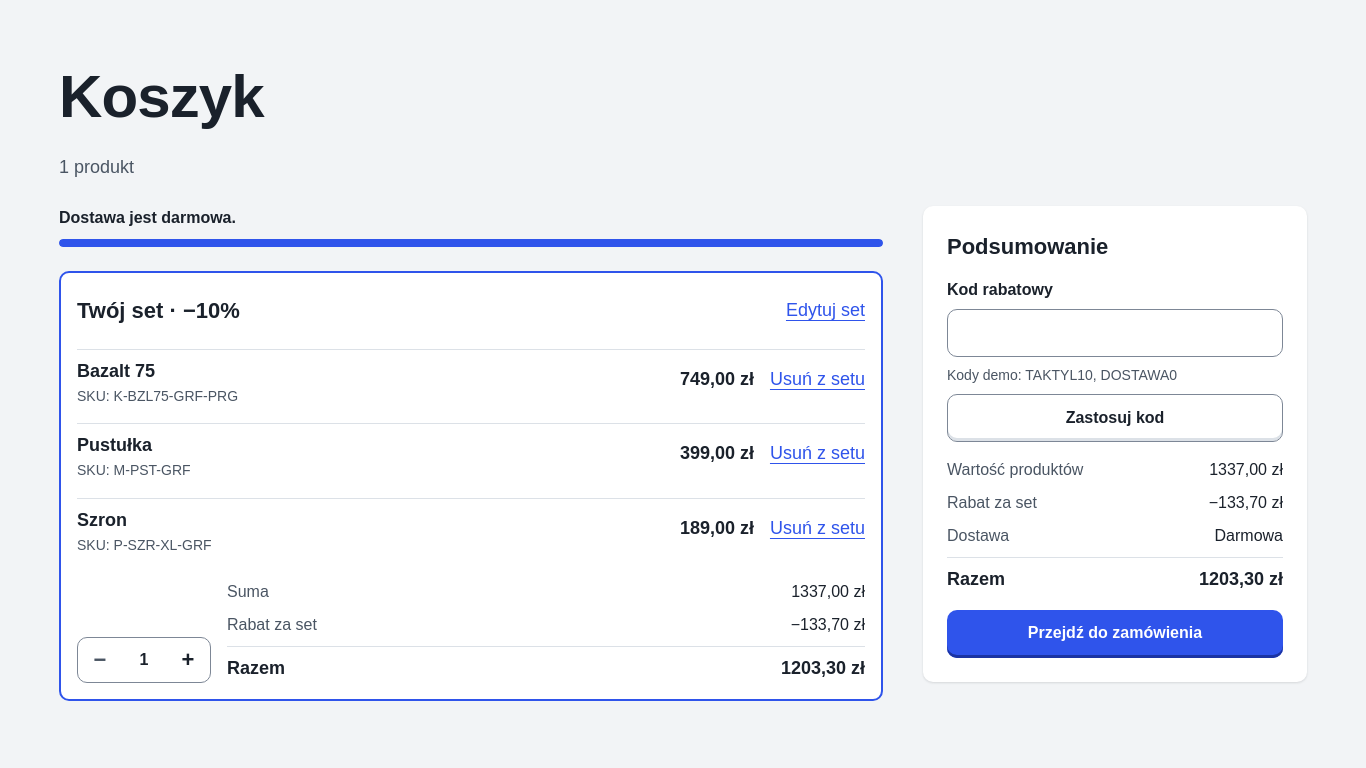
Test: lista, licznik i podsumowanie › zmiana ilosci grupy wola nowa wycene i aktualizuje sumy; ceny nie sa w koszyku
The width and height of the screenshot is (1366, 768).
Expected: the element with test id "koszyk-razem" reads "1203,30 zł", [1199, 569, 1283, 589]
Click the button named "Zwiększ ilość" at coordinates (188, 660), box [166, 638, 210, 682]
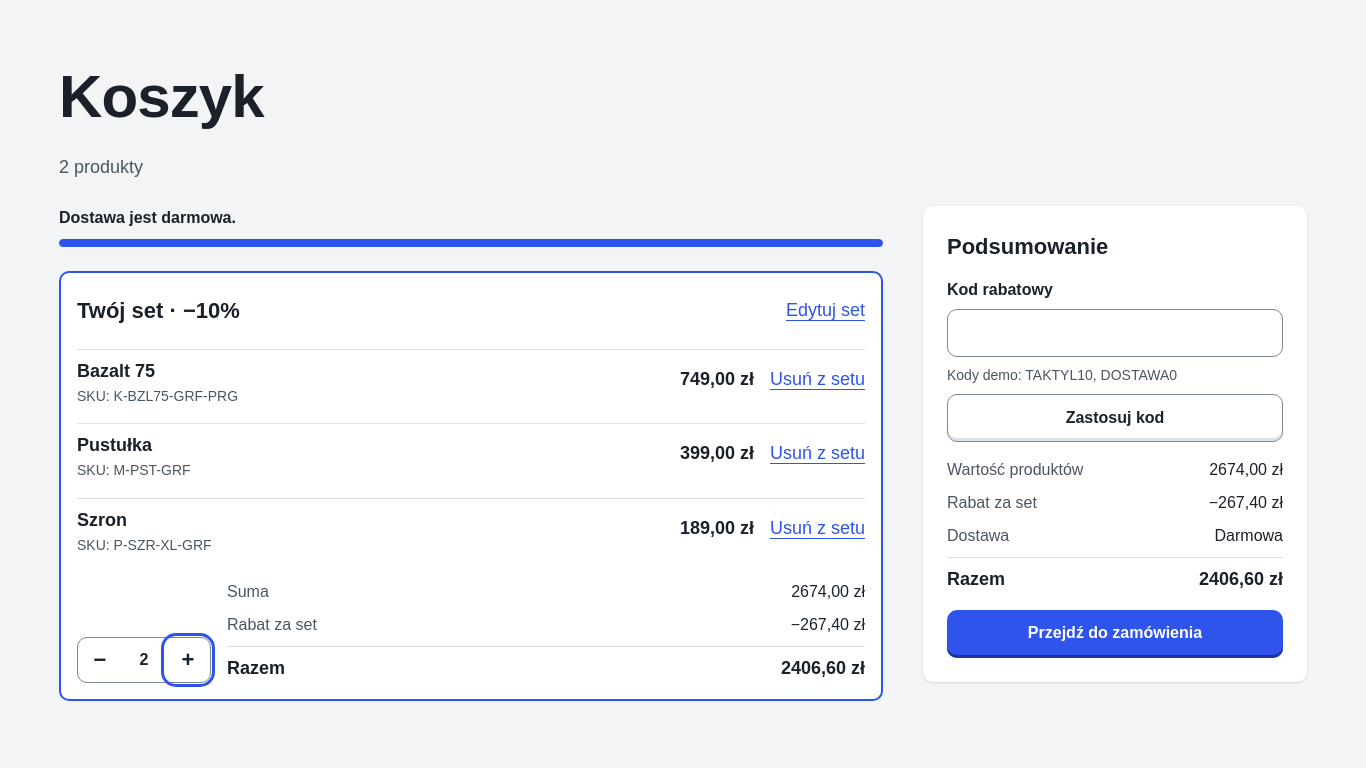
Expected: the element with test id "koszyk-razem" reads "2406,60 zł", [1199, 569, 1283, 589]
